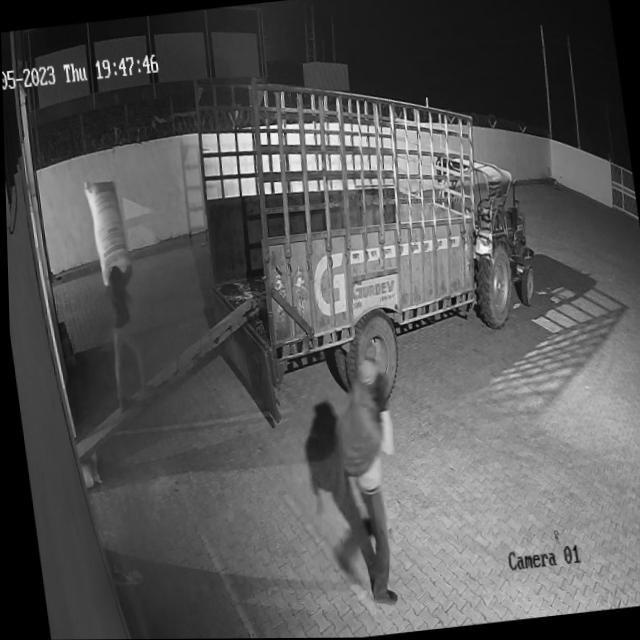sack: (81, 175, 132, 284)
